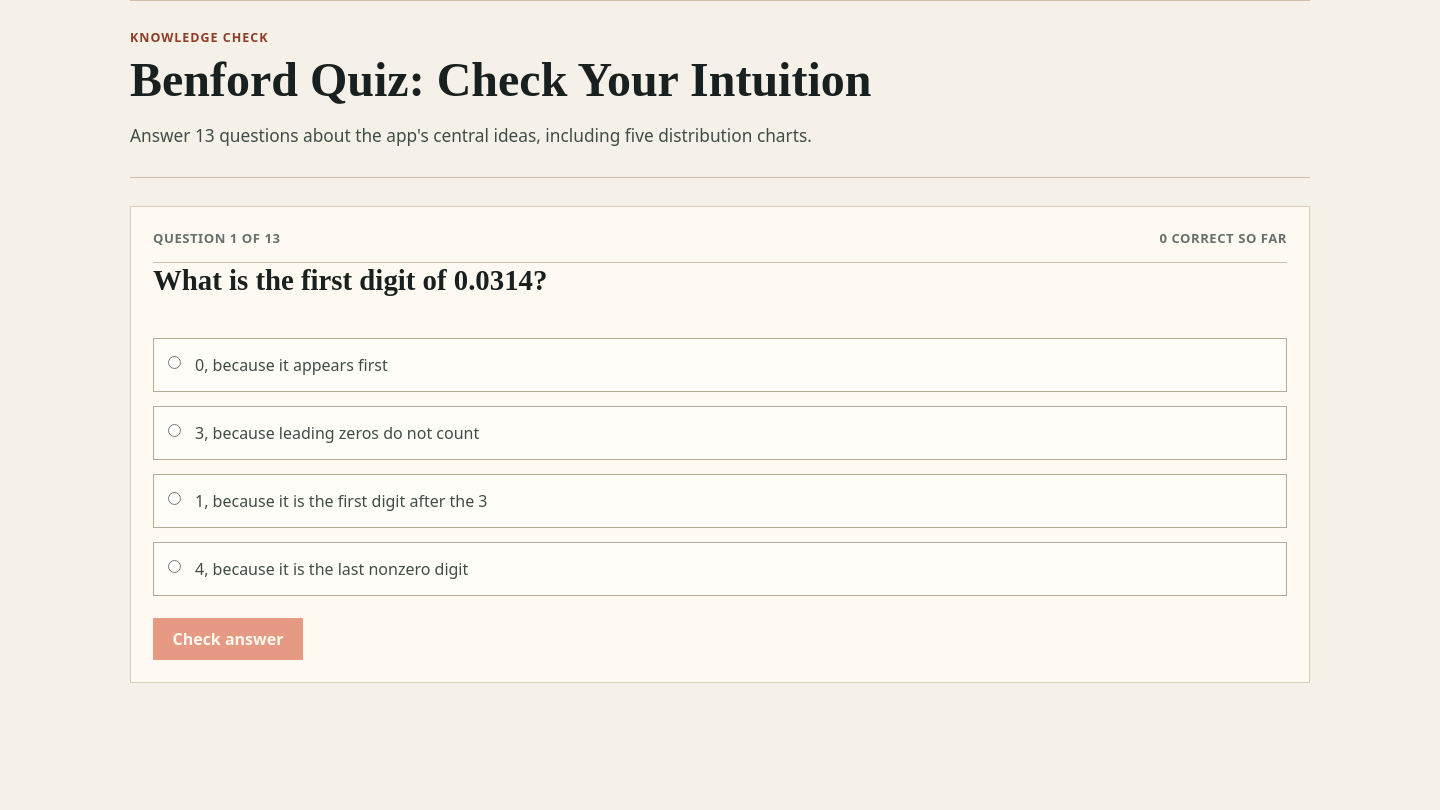
QuizPage › explains the selected misconception about negative fractional logs
The width and height of the screenshot is (1440, 810).
Click the radio button labelled "3, because leading zeros do not count": [174, 431] box [168,424,181,437]
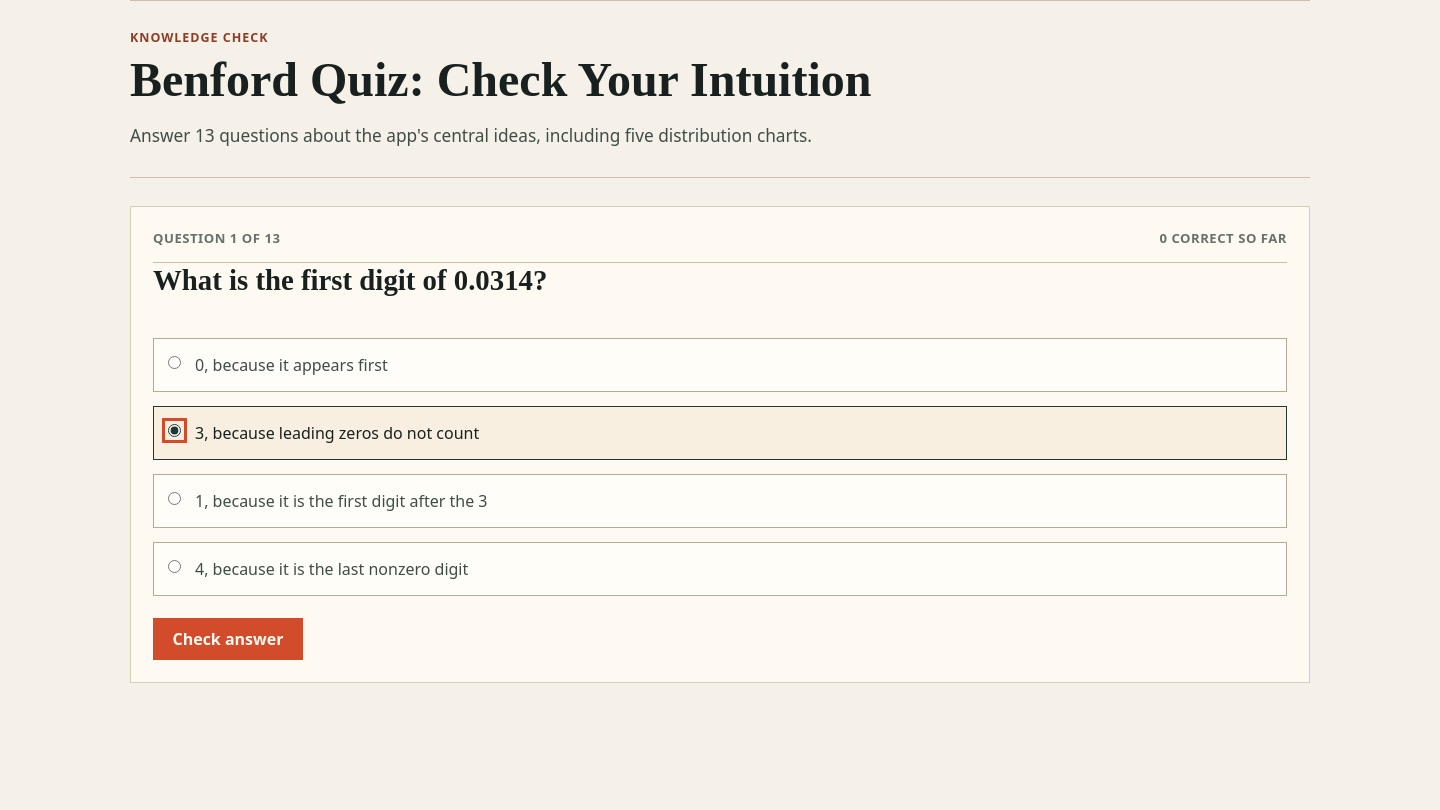
Click the button "Check answer": [228, 639] box [153,618,303,660]
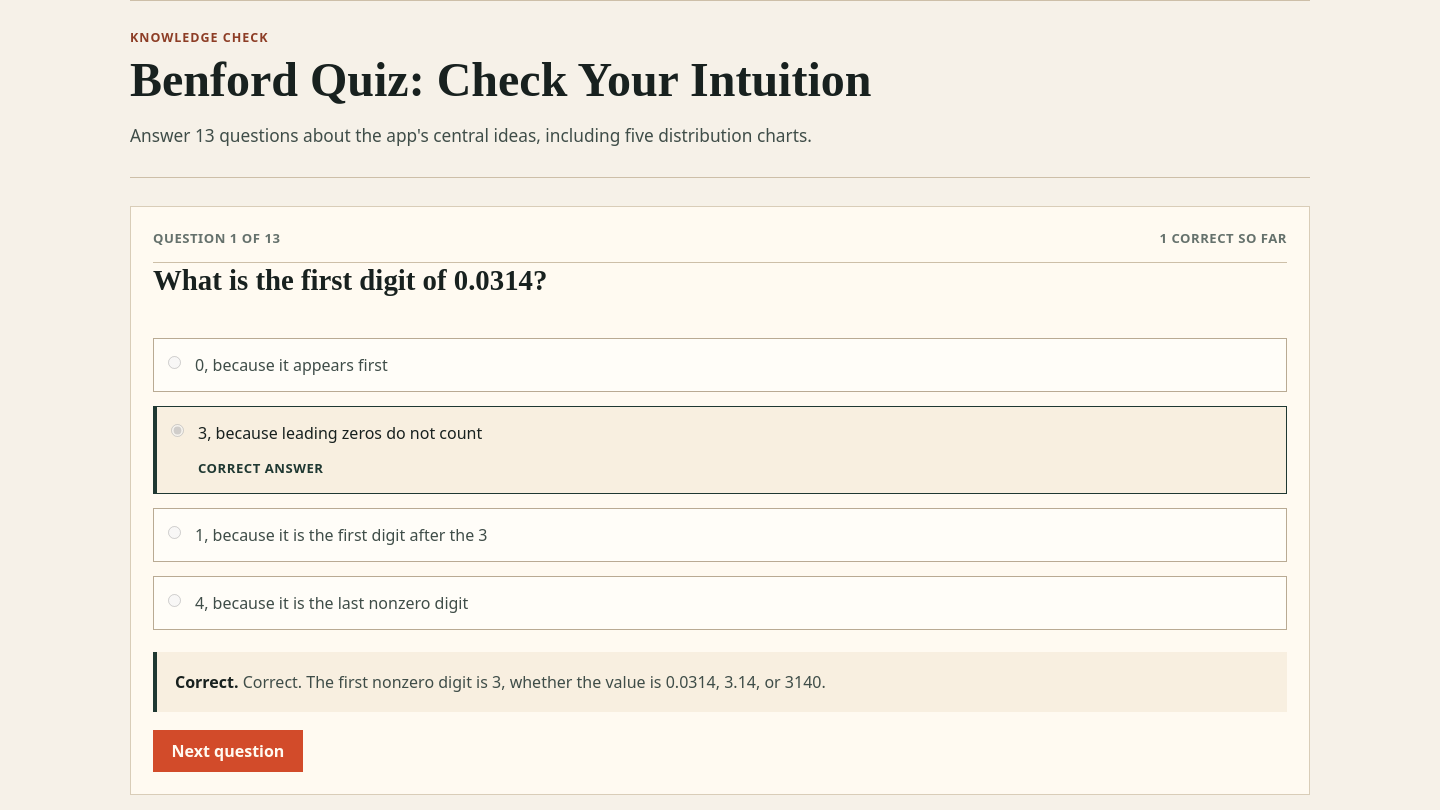
Click the button "Next question": [228, 751] box [153,730,303,772]
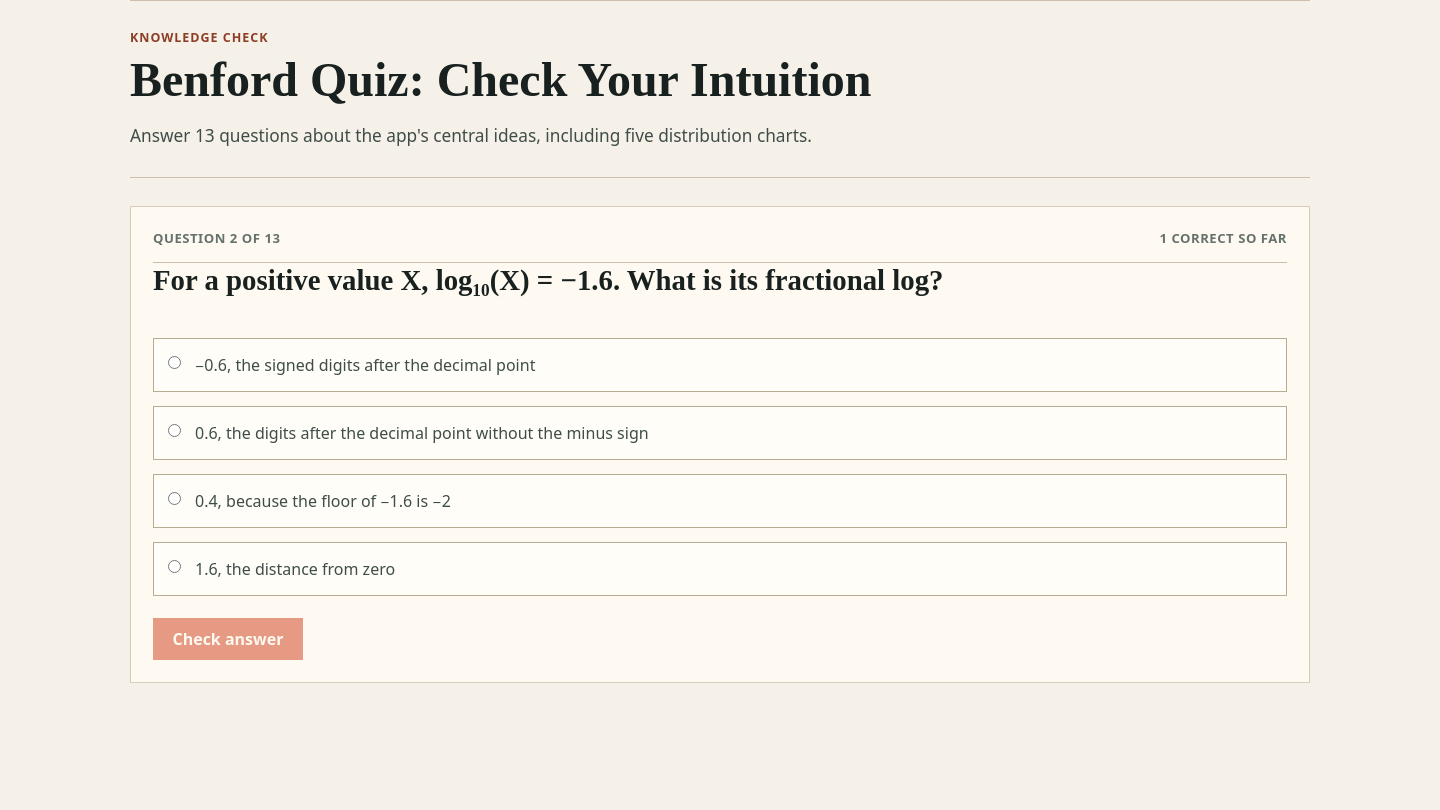
Expected: the text "log₁₀(X) = −1.6" is shown, [153,264,944,296]
Click the radio button labelled "−0.6, the signed digits after the decimal point": [174, 363] box [168,356,181,369]
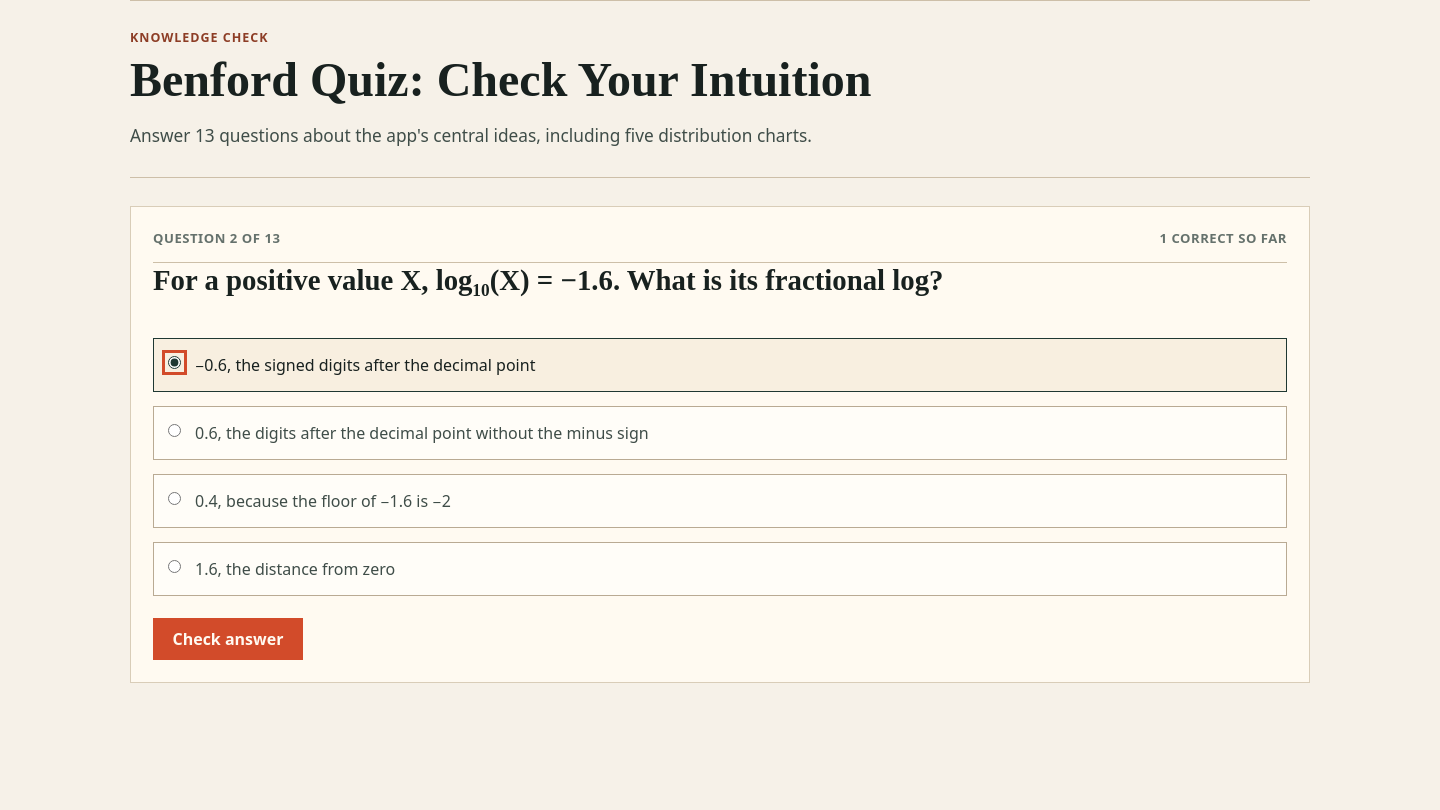
Click the button "Check answer": [228, 639] box [153,618,303,660]
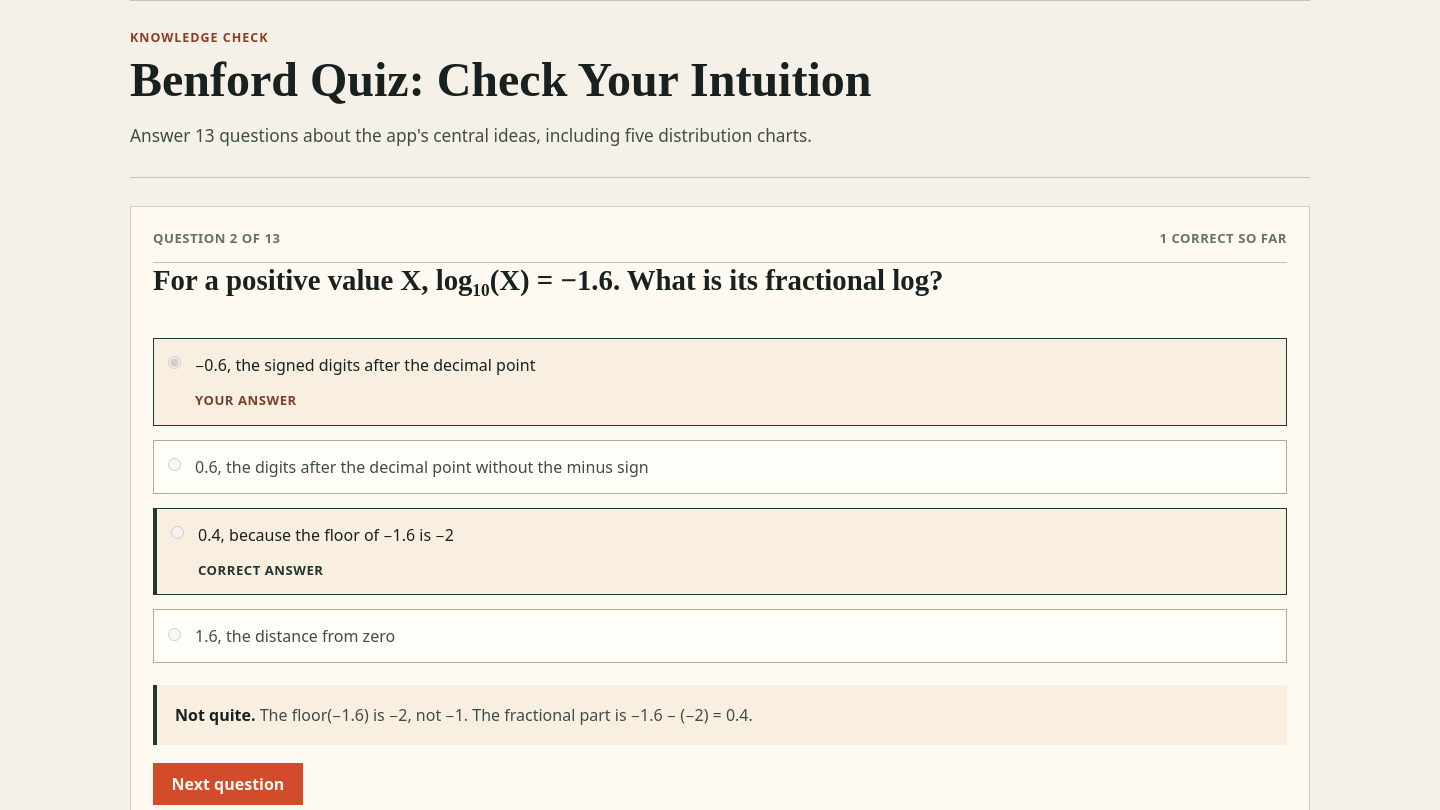
Expected: the message shows "floor(−1.6) is −2", [260,704,753,726]
Expected: the message shows "0.4", [260,704,753,726]
